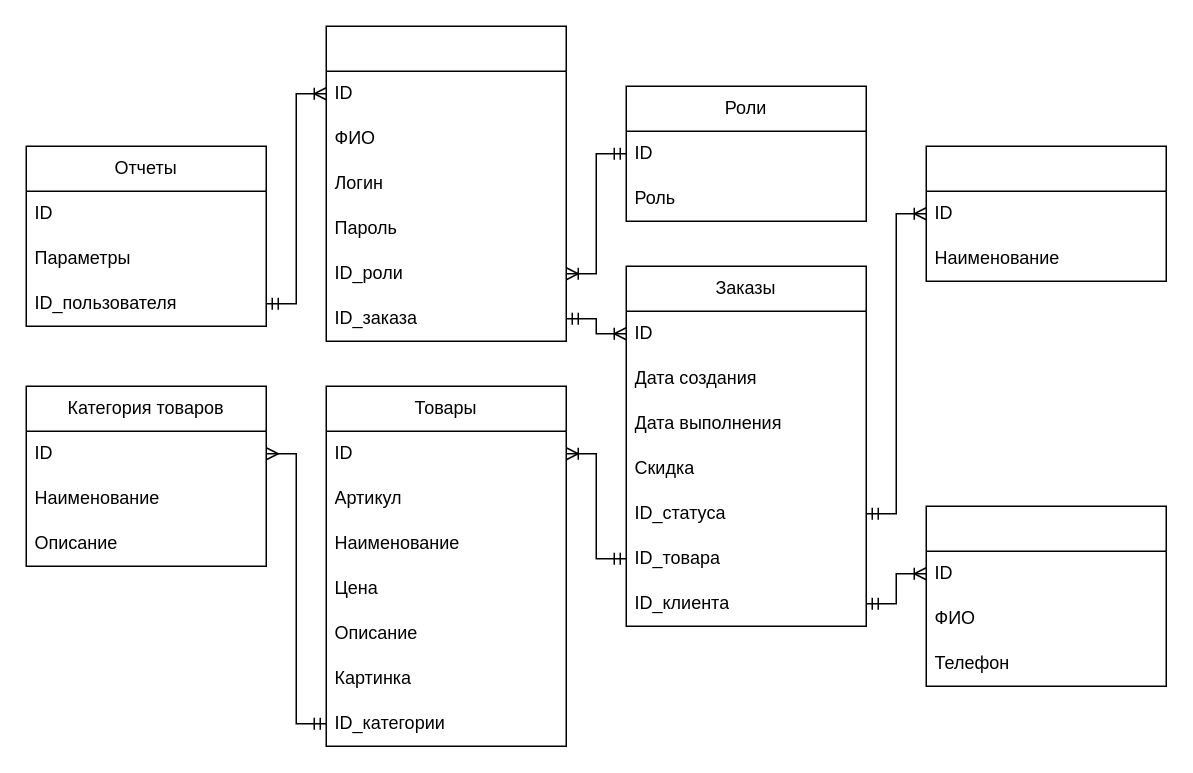
The diagram is 1193 pixels wide and 773 high, and some of its shapes have lost their labels. The shapes that lost their labels are listed below. From the top down, each one's box as (x1, y1, x2, y2) in pixels, then its label:
(325, 25, 566, 341): Пользователи
(925, 145, 1166, 281): Статус
(925, 505, 1166, 686): Клиенты
